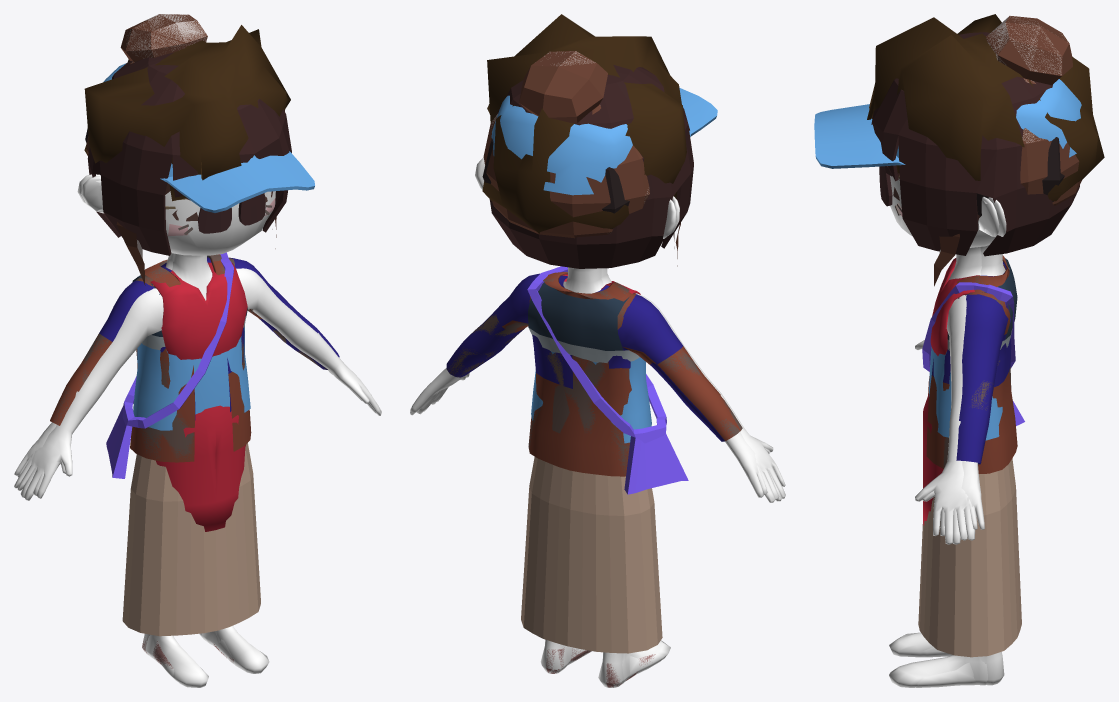
The model's file is Chr.fbx.
3 renders of one model, left to right at view 1: azimuth 30°, elevation 25°; view 2: azimuth 150°, elevation 25°; view 3: azimuth 270°, elevation 25°, orthographic. The views are drawn at different scales.
Visible parts, largest first — view 1: Shane, NPC_1, NPC_3, Sunny, Grandma, Simon; view 2: NPC_1, NPC_3, Sunny, Shane, Simon, Grandma; view 3: Shane, NPC_1, NPC_3, Simon, Sunny, Grandma.
Boxes of the visible parts, x1,y1,x2,y2 form: Shane: [17, 52, 381, 687]; NPC_1: [15, 25, 350, 681]; NPC_3: [86, 14, 276, 636]; Sunny: [14, 63, 376, 679]; Grandma: [14, 14, 372, 668]; Simon: [17, 128, 362, 652]; NPC_1: [411, 14, 740, 687]; NPC_3: [483, 51, 680, 653]; Sunny: [411, 87, 782, 687]; Shane: [416, 65, 785, 683]; Simon: [410, 138, 777, 687]; Grandma: [413, 51, 755, 687]; Shane: [871, 32, 1079, 687]; NPC_1: [867, 14, 1104, 473]; NPC_3: [918, 16, 1081, 657]; Simon: [893, 137, 1064, 687]; Sunny: [814, 79, 1081, 525]; Grandma: [895, 16, 1067, 518].
Bounding box in the file's own units: 110 × 184 × 74.31.
